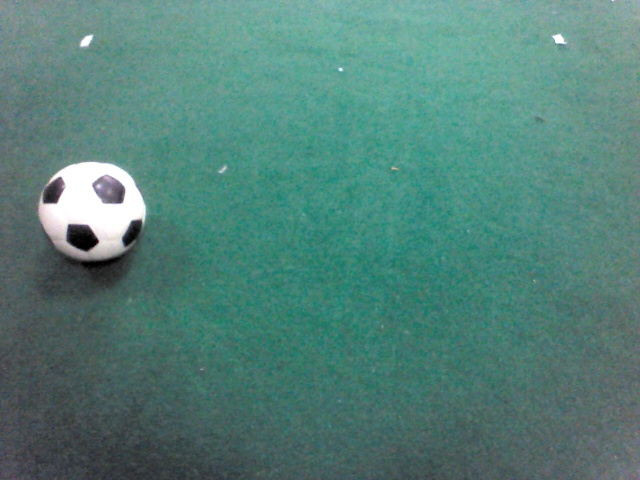ball: (36, 159, 148, 264)
